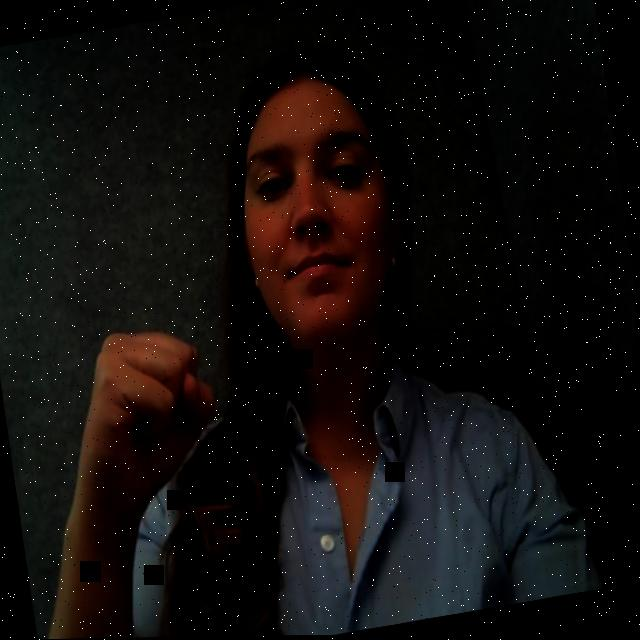Rock: (64, 307, 242, 524)
